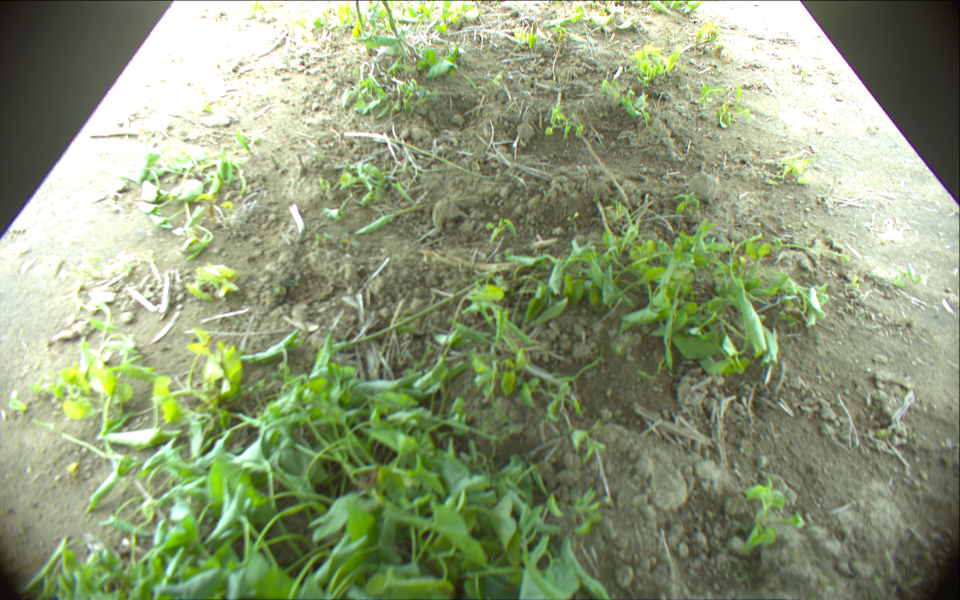aspa: (325, 272, 490, 350), (344, 134, 494, 179), (381, 1, 407, 52), (355, 1, 370, 40)
